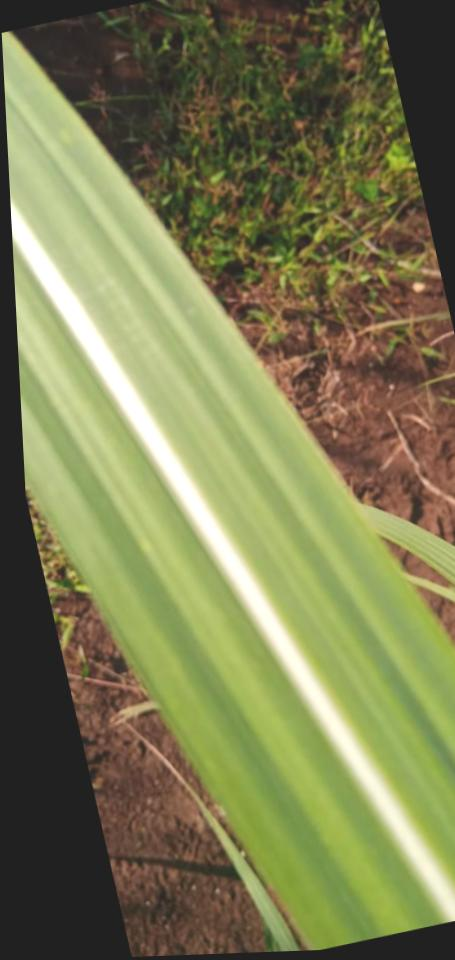Healthy: (2, 32, 455, 950)
